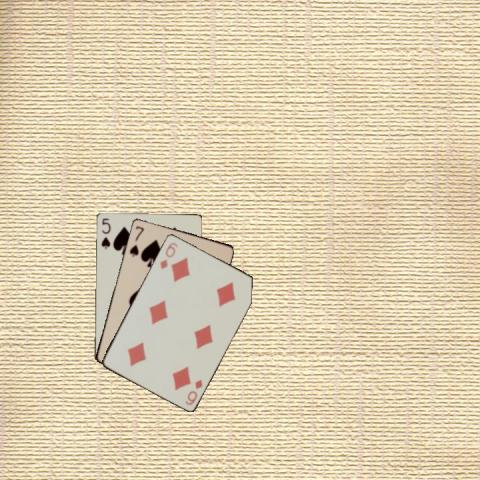5s: (98, 215, 112, 251)
6d: (156, 239, 178, 270), (182, 376, 204, 407)
7s: (127, 223, 145, 258)
